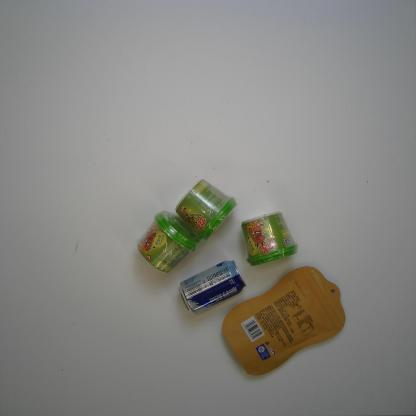Alcohol: (178, 260, 247, 314)
Dried Fruit: (222, 266, 346, 376)
Instant Drink: (174, 178, 238, 242), (137, 210, 200, 273), (241, 210, 298, 266)
